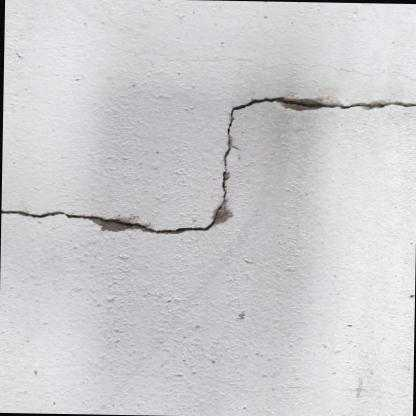crack: (0, 96, 416, 233)
